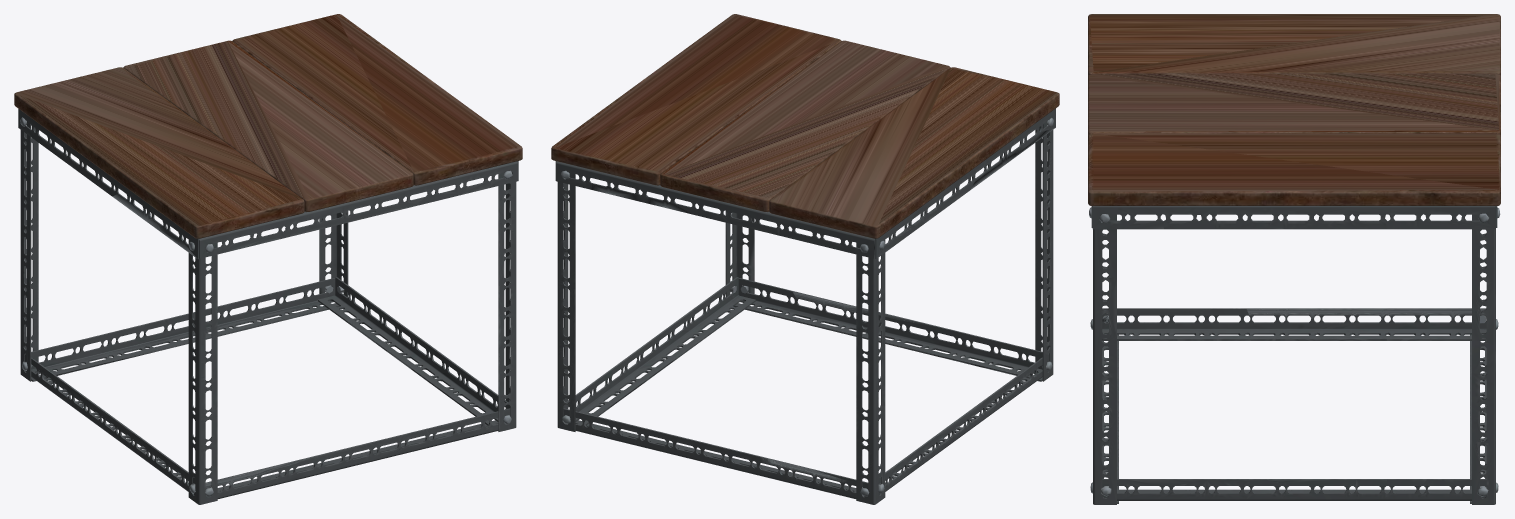
Rendered from industrial-coffee-table.glb.
The picture shows the model from 3 angles, left to right: view 1: azimuth 30°, elevation 25°; view 2: azimuth 150°, elevation 25°; view 3: azimuth 270°, elevation 25°; orthographic projection. The views are drawn at different scales.
Parts seen in each view (by area): view 1: industrial_coffee_table; view 2: industrial_coffee_table; view 3: industrial_coffee_table.
Part boxes in pixels (left/top/right/bottom): industrial_coffee_table: left=14, top=14, right=522, bottom=504; industrial_coffee_table: left=551, top=14, right=1059, bottom=504; industrial_coffee_table: left=1088, top=14, right=1500, bottom=504.
Bounding box in the file's own units: 0.7783 × 0.6384 × 0.7579.
1 material, 1 textured.
